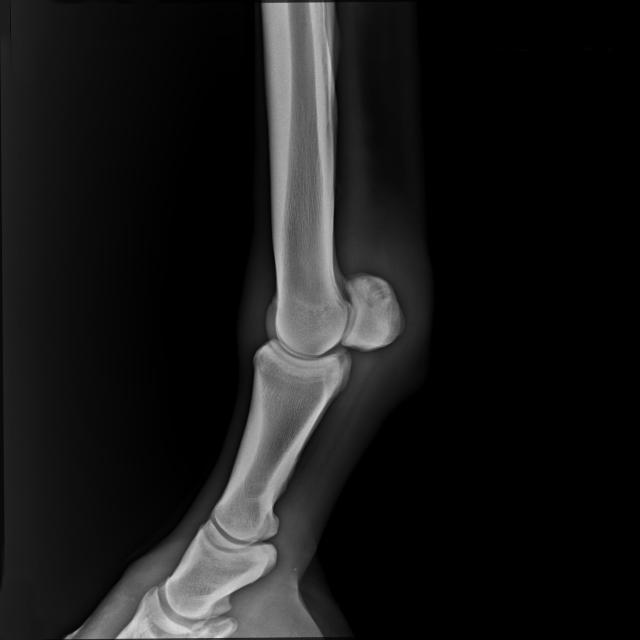joint-ht8A: (224, 232, 431, 428)
